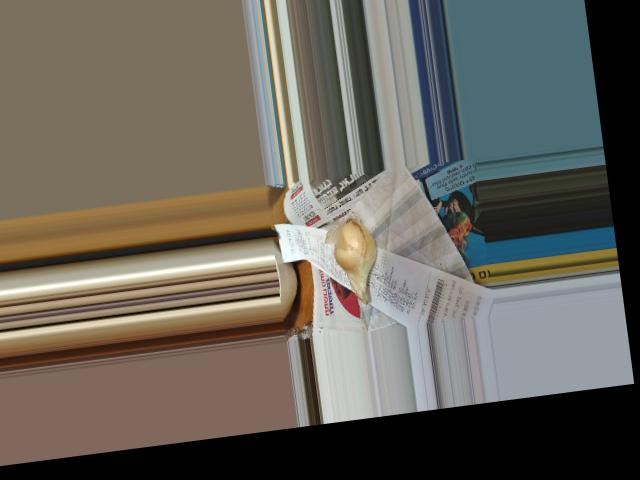onion: (332, 217, 386, 300)
